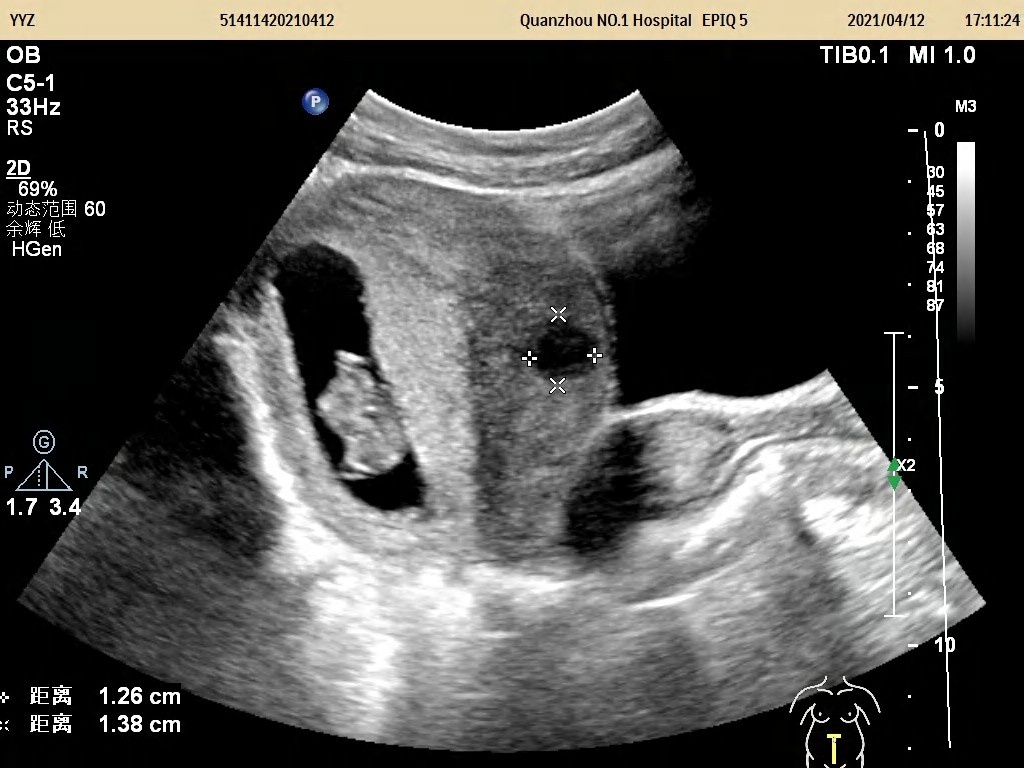肌瘤: (530, 323, 596, 380)
